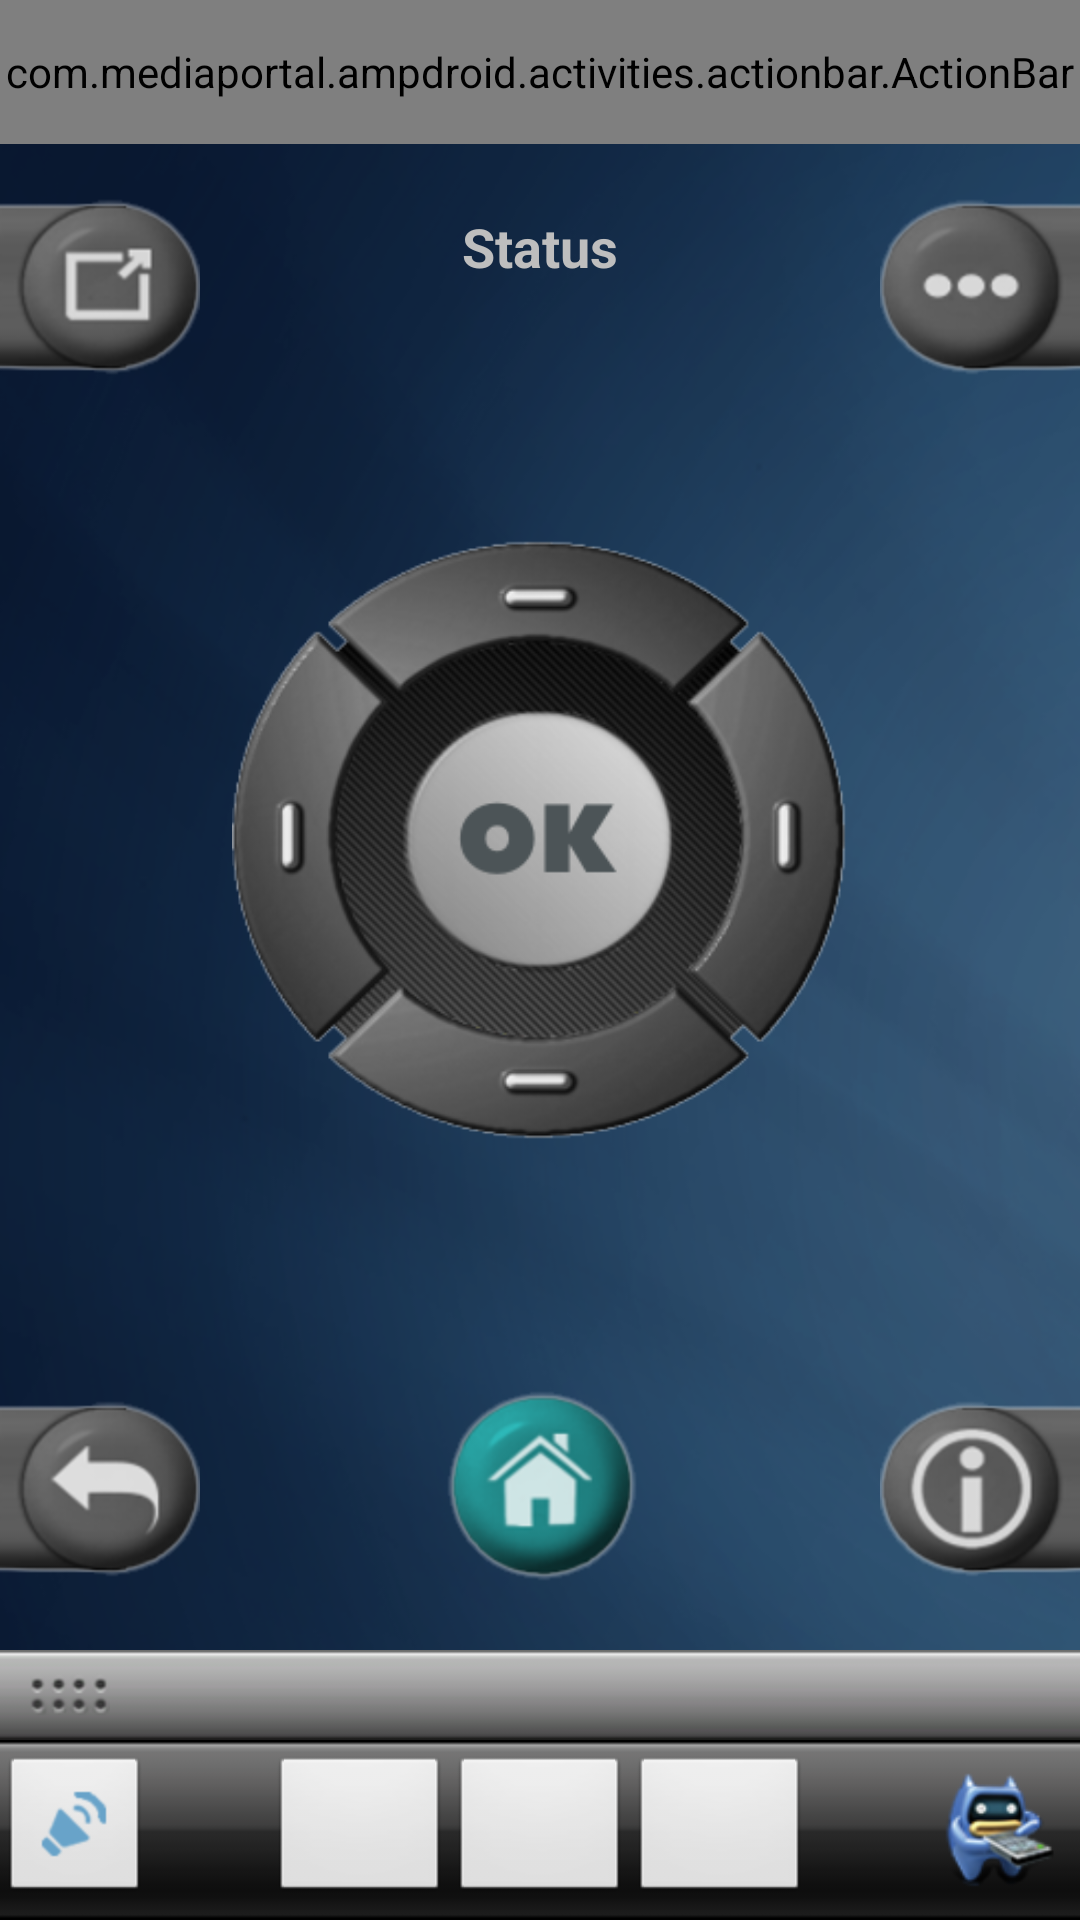

Named icons in this screenshot (1080×1920) and their centers, (x,y):
remote back: (100,1489)
remote home: (542,1486)
remote info: (980,1488)
remote more: (980,287)
remote switch fullscreen: (100,287)
slidingdrawer: (70,1695)
volume: (75,1830)
